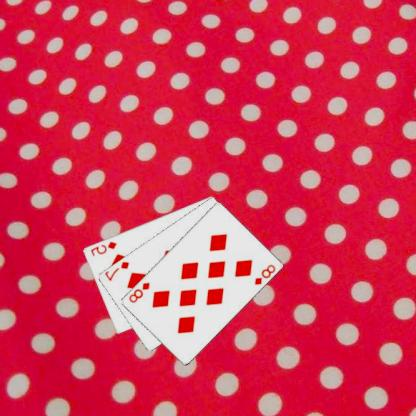5D: (90, 239, 119, 257)
7D: (104, 259, 132, 282)
8D: (127, 279, 153, 304), (254, 262, 278, 286)
